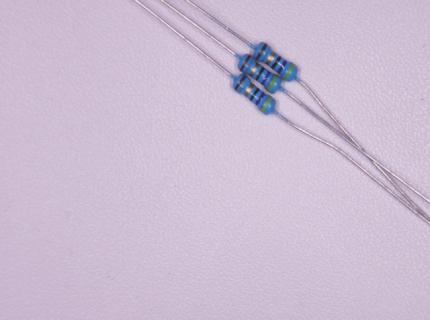Gold band: (264, 51, 277, 66), (243, 82, 255, 98), (249, 62, 260, 78)
Violet band: (276, 59, 288, 75), (255, 92, 266, 106), (261, 71, 272, 85)
Yellow band: (283, 63, 296, 81), (267, 74, 279, 92), (261, 96, 273, 114)
